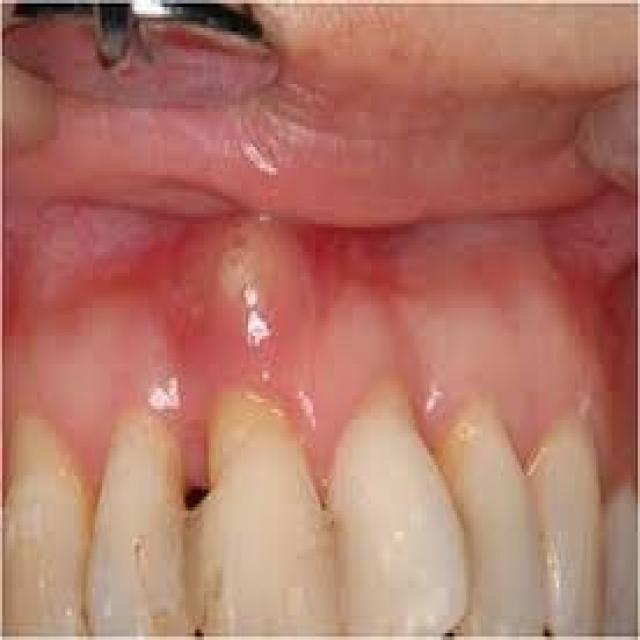abscess: (192, 206, 327, 397)
